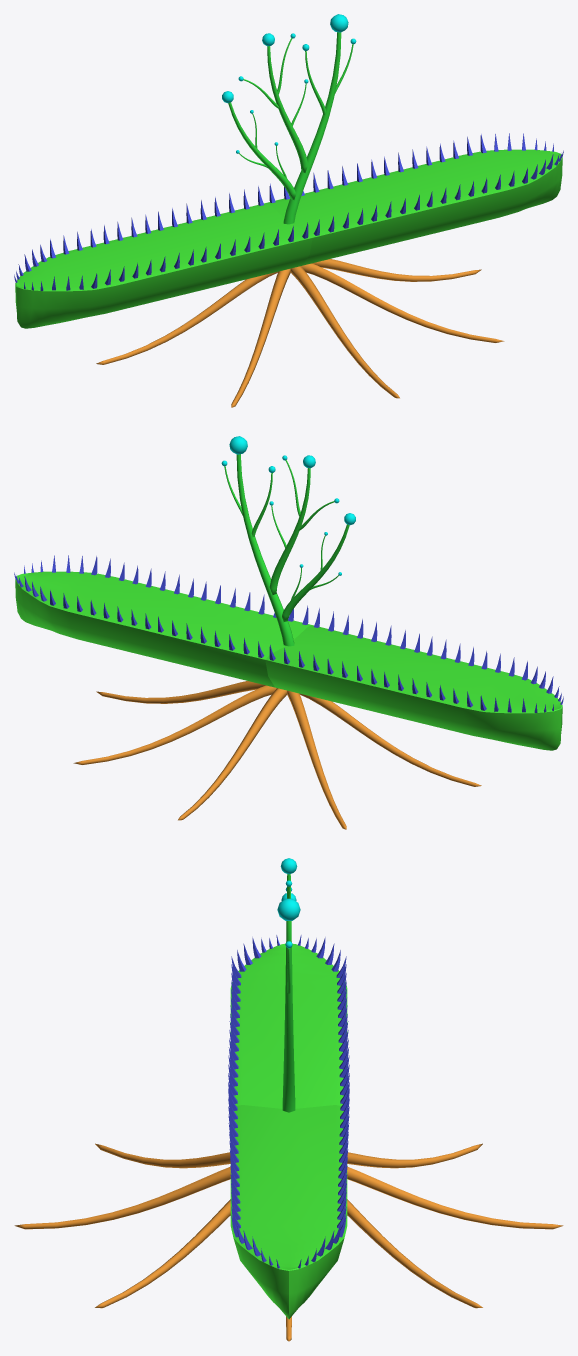
File: flytrap.fbx
3 renders of one model, top to bottom at view 1: azimuth 30°, elevation 25°; view 2: azimuth 150°, elevation 25°; view 3: azimuth 270°, elevation 25°, orthographic. The views are drawn at different scales.
Parts seen in each view (by area): view 1: FlytrapMouthHalf2, FlytrapMouthHalf1, Roots, Stem; view 2: FlytrapMouthHalf2, FlytrapMouthHalf1, Roots, Stem; view 3: FlytrapMouthHalf1, FlytrapMouthHalf2, Roots, Stem.
Part boxes in pixels (x1,y1,x2,y2): FlytrapMouthHalf2: [14, 186, 312, 328]; FlytrapMouthHalf1: [265, 133, 563, 265]; Roots: [96, 259, 504, 407]; Stem: [222, 14, 356, 224]; FlytrapMouthHalf2: [265, 608, 563, 750]; FlytrapMouthHalf1: [14, 555, 312, 687]; Roots: [73, 681, 481, 829]; Stem: [221, 436, 355, 646]; FlytrapMouthHalf1: [228, 1089, 349, 1319]; FlytrapMouthHalf2: [228, 935, 349, 1108]; Roots: [14, 1143, 563, 1341]; Stem: [277, 858, 300, 1112].
Bounding box in the file's own units: 912 × 468 × 647.
